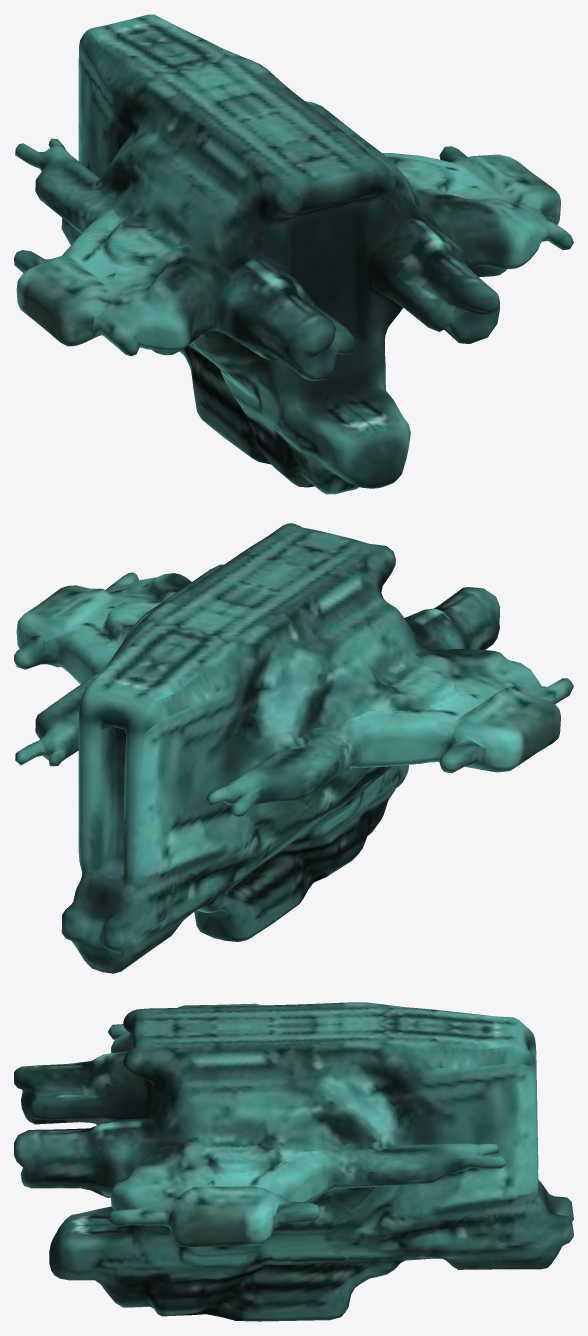
The model's file is placeholder_liberator.glb.
3 views of the same model, one above another, from view 1: azimuth 30°, elevation 25°; view 2: azimuth 150°, elevation 25°; view 3: azimuth 270°, elevation 25° (orthographic). The views are drawn at different scales.
Parts seen in each view (by area): view 1: placeholder_liberator; view 2: placeholder_liberator; view 3: placeholder_liberator.
Boxes of the visible parts, x1,y1,x2,y2 form: placeholder_liberator: (14, 14, 573, 494); placeholder_liberator: (14, 523, 573, 973); placeholder_liberator: (14, 1002, 573, 1321).
Size of the model in its own units: 0.1158 by 0.0727 by 0.1271.
1 material, 1 textured.
